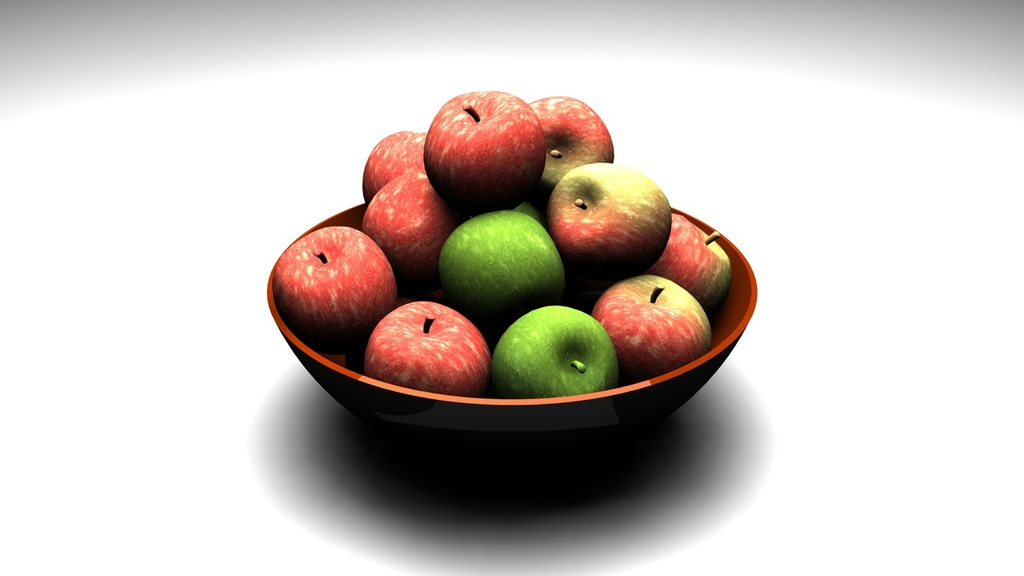Apple: (271, 88, 734, 392), (492, 287, 614, 394)
